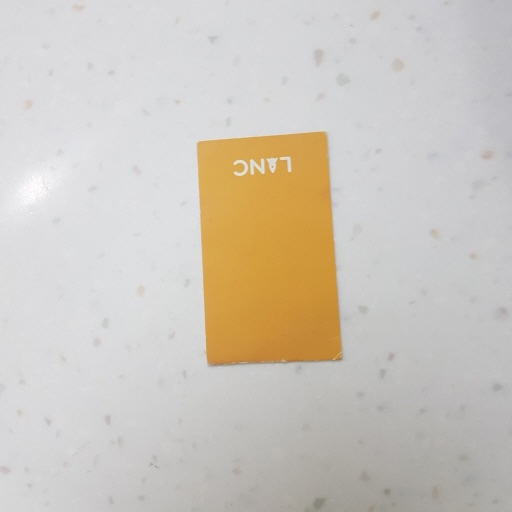Paper_2: (192, 134, 358, 370)
